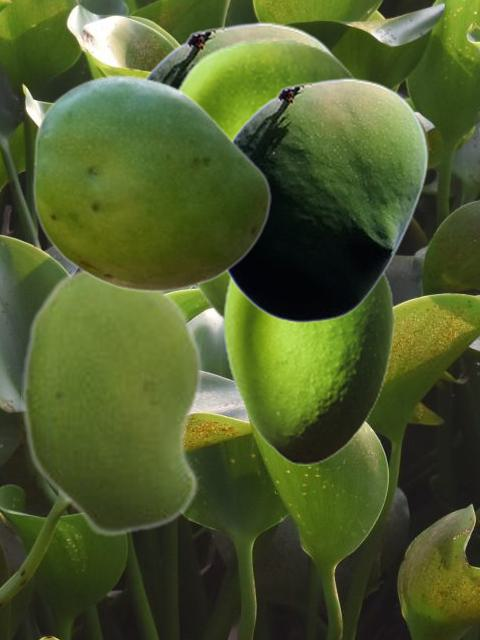green_mango: (174, 36, 358, 322), (145, 21, 340, 288), (32, 74, 270, 292), (225, 77, 428, 322), (21, 269, 203, 537), (222, 270, 394, 464)
